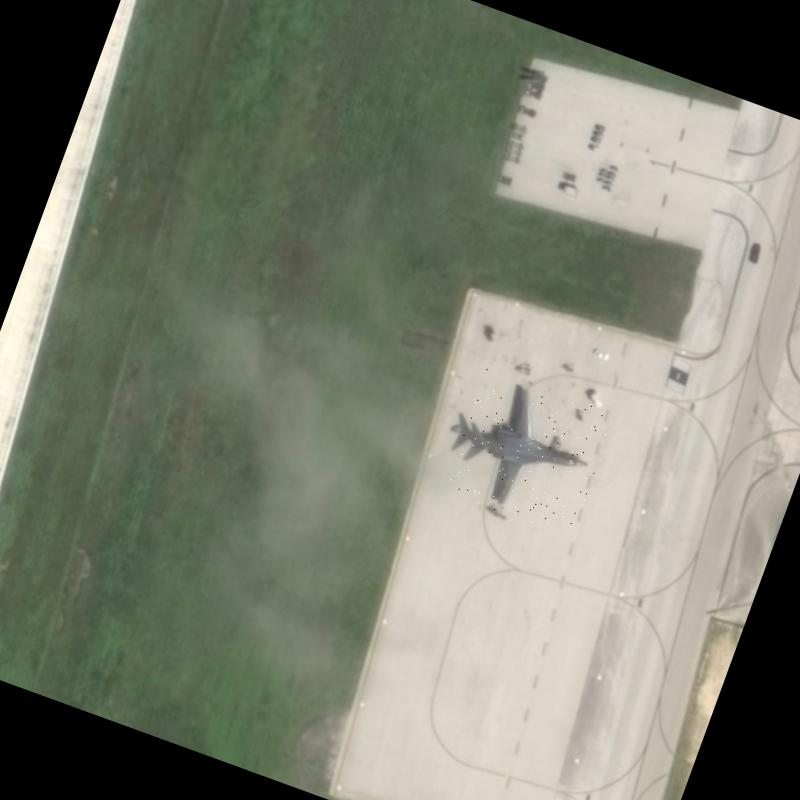A10: (442, 368, 616, 538)
